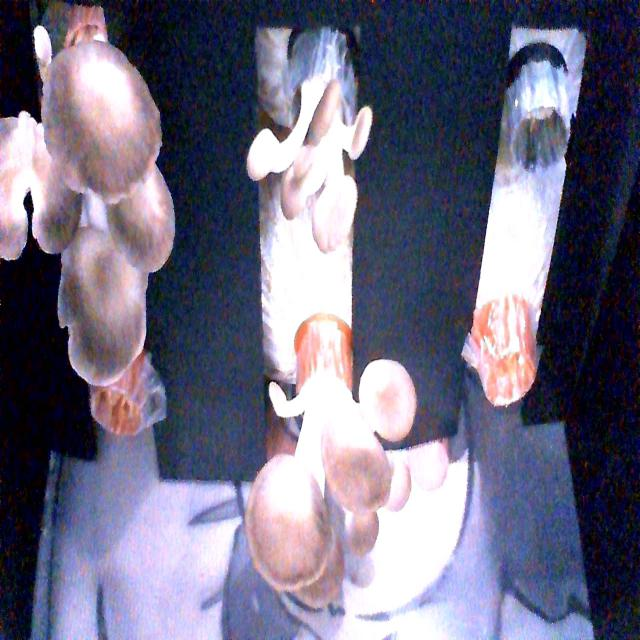big: (0, 24, 189, 380), (241, 348, 412, 588)
nfound: (86, 356, 160, 463), (483, 322, 542, 426), (507, 98, 575, 186)
small: (241, 68, 379, 254)
